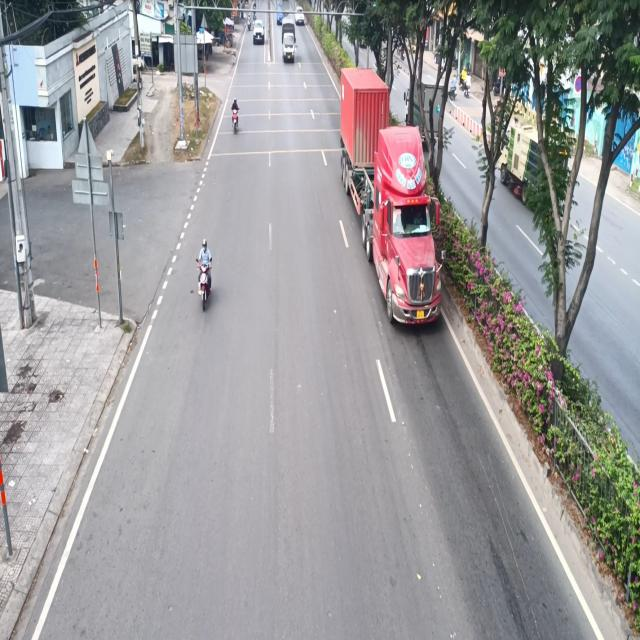motorbike: (197, 238, 214, 317), (230, 94, 242, 138)
truck: (338, 62, 446, 341)
